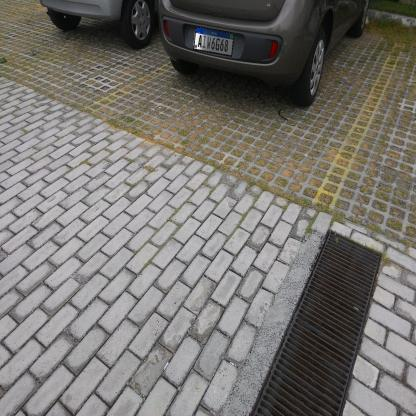PlacaM: (193, 26, 234, 57)
